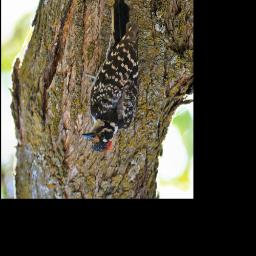Woodpecker: (82, 0, 135, 155)
